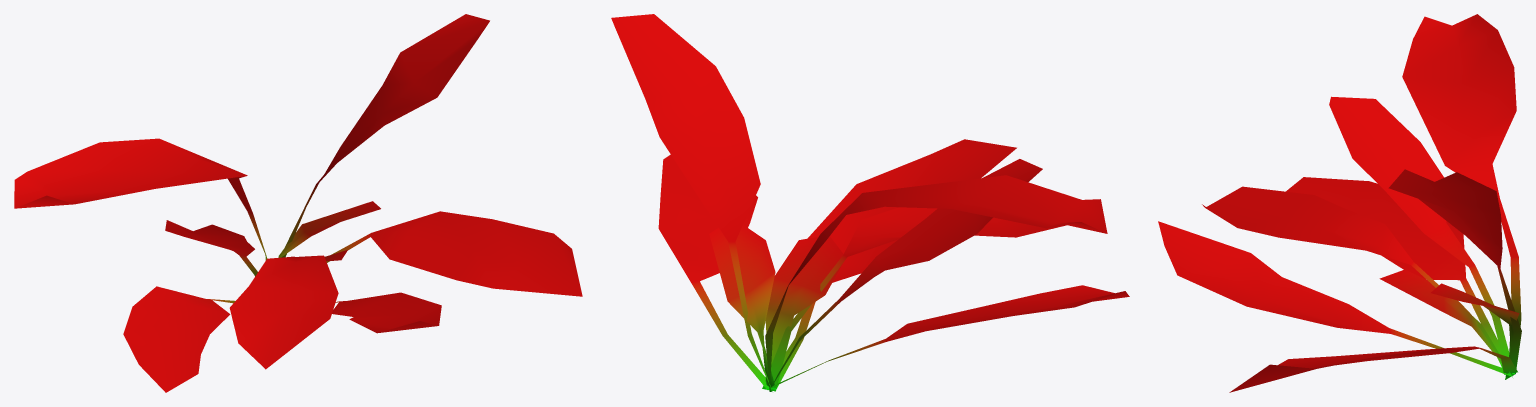
The model's file is Var16_LOD2.fbx.
The picture shows the model from 3 angles, left to right: view 1: azimuth 30°, elevation 25°; view 2: azimuth 150°, elevation 25°; view 3: azimuth 270°, elevation 25°; orthographic projection. The views are drawn at different scales.
Parts seen in each view (by area): view 1: _qbvm_Var16_LOD2; view 2: _qbvm_Var16_LOD2; view 3: _qbvm_Var16_LOD2.
Part boxes in pixels (box(x1,y1,x2,y2)): _qbvm_Var16_LOD2: box(14, 14, 582, 392); _qbvm_Var16_LOD2: box(611, 14, 1129, 391); _qbvm_Var16_LOD2: box(1158, 14, 1521, 392).
Bounding box in the file's own units: 35.52 × 19.97 × 22.35.
